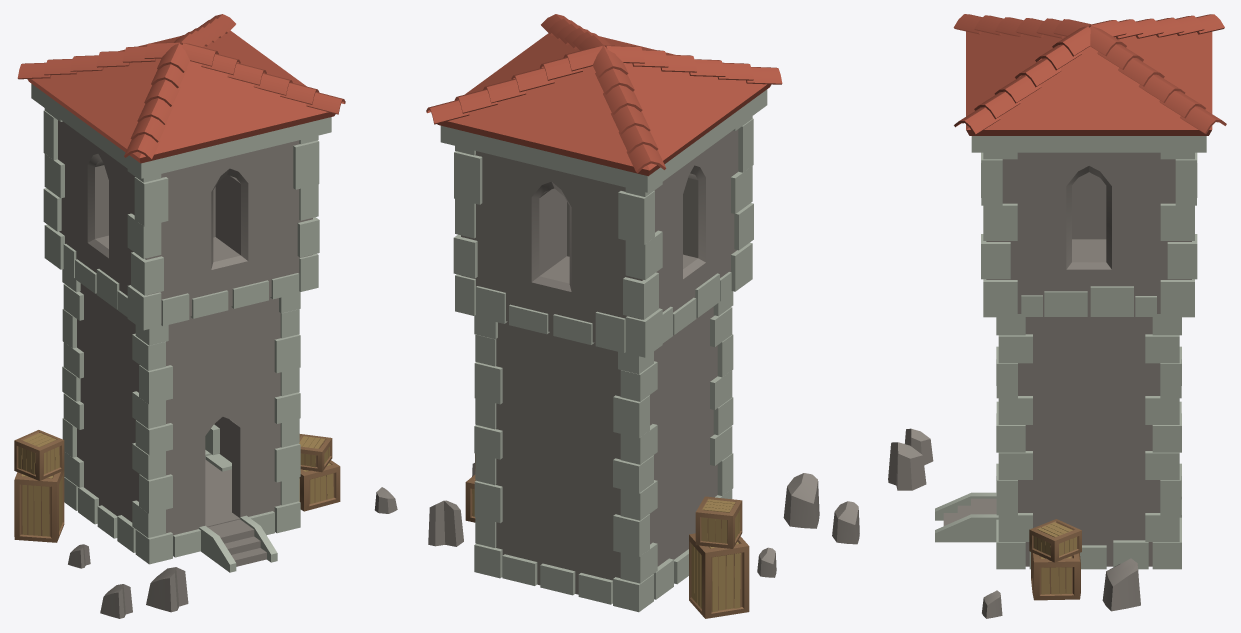
Rendered from WatchTower_SecondAge_Level1.glb.
The picture shows the model from 3 angles, left to right: view 1: azimuth 30°, elevation 25°; view 2: azimuth 150°, elevation 25°; view 3: azimuth 270°, elevation 25°; orthographic projection. The views are drawn at different scales.
Visible parts, largest first — view 1: WatchTower_SecondAge_Level1; view 2: WatchTower_SecondAge_Level1; view 3: WatchTower_SecondAge_Level1.
Part boxes in pixels (left/top/right/bottom): WatchTower_SecondAge_Level1: left=14, top=14, right=397, bottom=618; WatchTower_SecondAge_Level1: left=426, top=14, right=859, bottom=618; WatchTower_SecondAge_Level1: left=888, top=14, right=1226, bottom=618.
Size of the model in its own units: 0.857 by 1.2 by 0.7227.
1 material, 1 textured.
